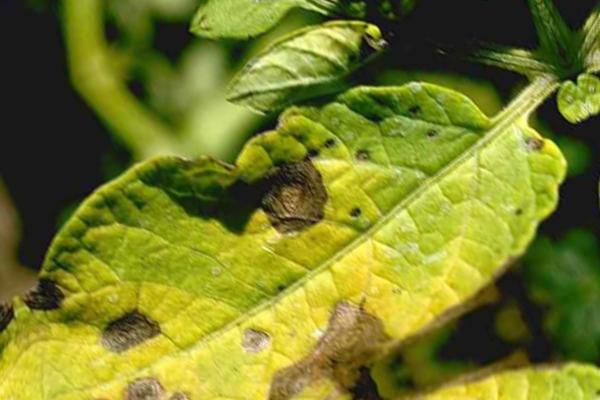Tomato Early blight leaf: (0, 4, 600, 400)
